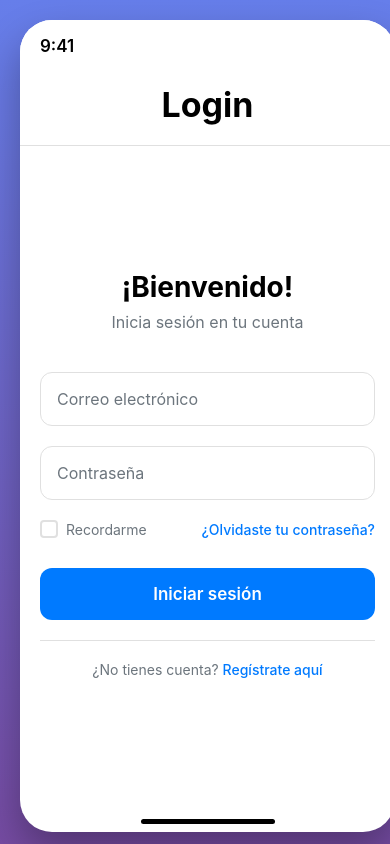
Test: AppNavigator › renders MainTabNavigator when navigating to Main
In the field with placeholder "Correo electrónico": (208, 399) [40,372,375,426], type "test@example.com"
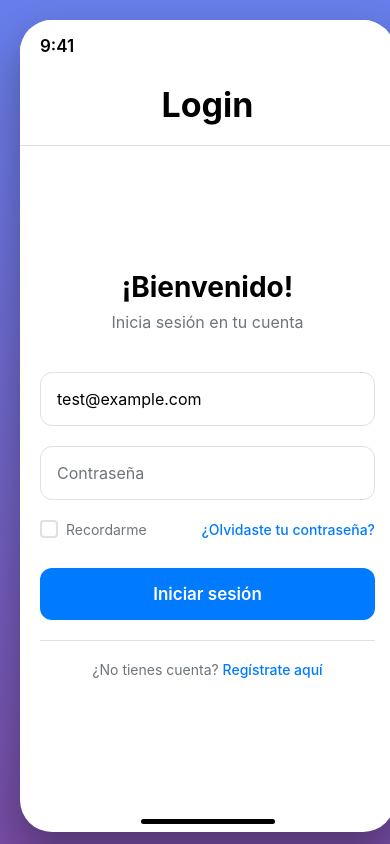
In the password field with placeholder "Contraseña": (208, 473) [40,446,375,500], type "password123"
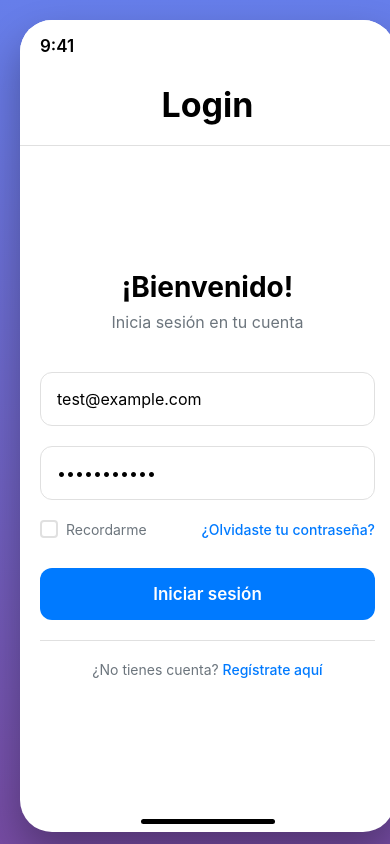
Click the text "Iniciar sesión": (208, 594) [153,584,262,604]
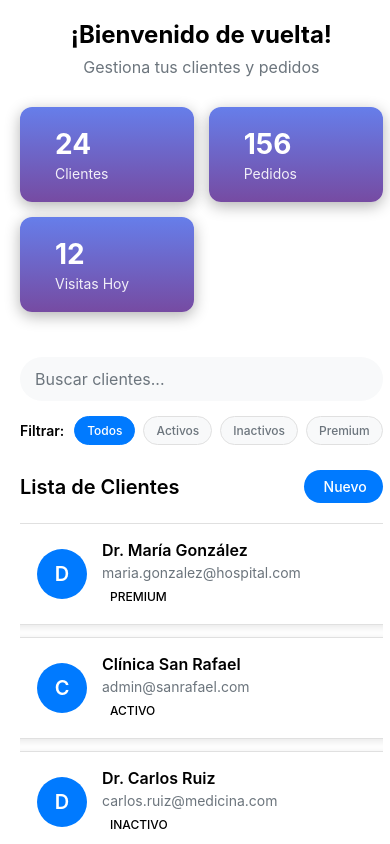
Result: the text "¡Bienvenido de vuelta!" is shown at [71,20,332,49]
